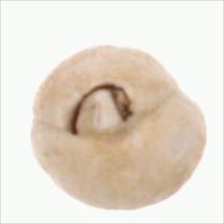L3: (60, 80, 134, 135)
L4: (31, 47, 207, 211)
